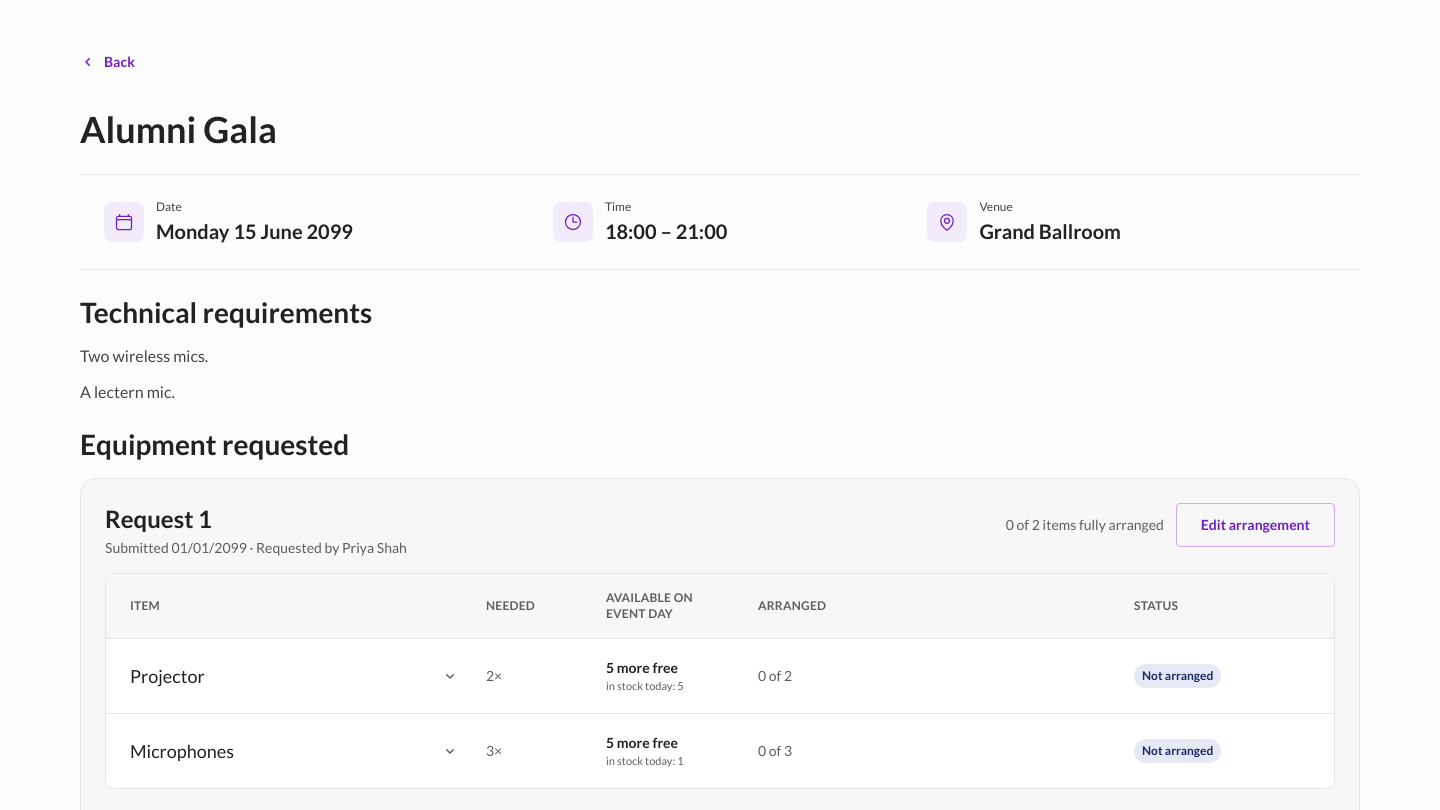
Test: EquipmentRequestDetailView › status is a read-out, not a choice: it follows the quantity picked, with no separate status control
Click the button with test id "edit-arrangement" at [1255, 525], box [1176,503,1335,547]
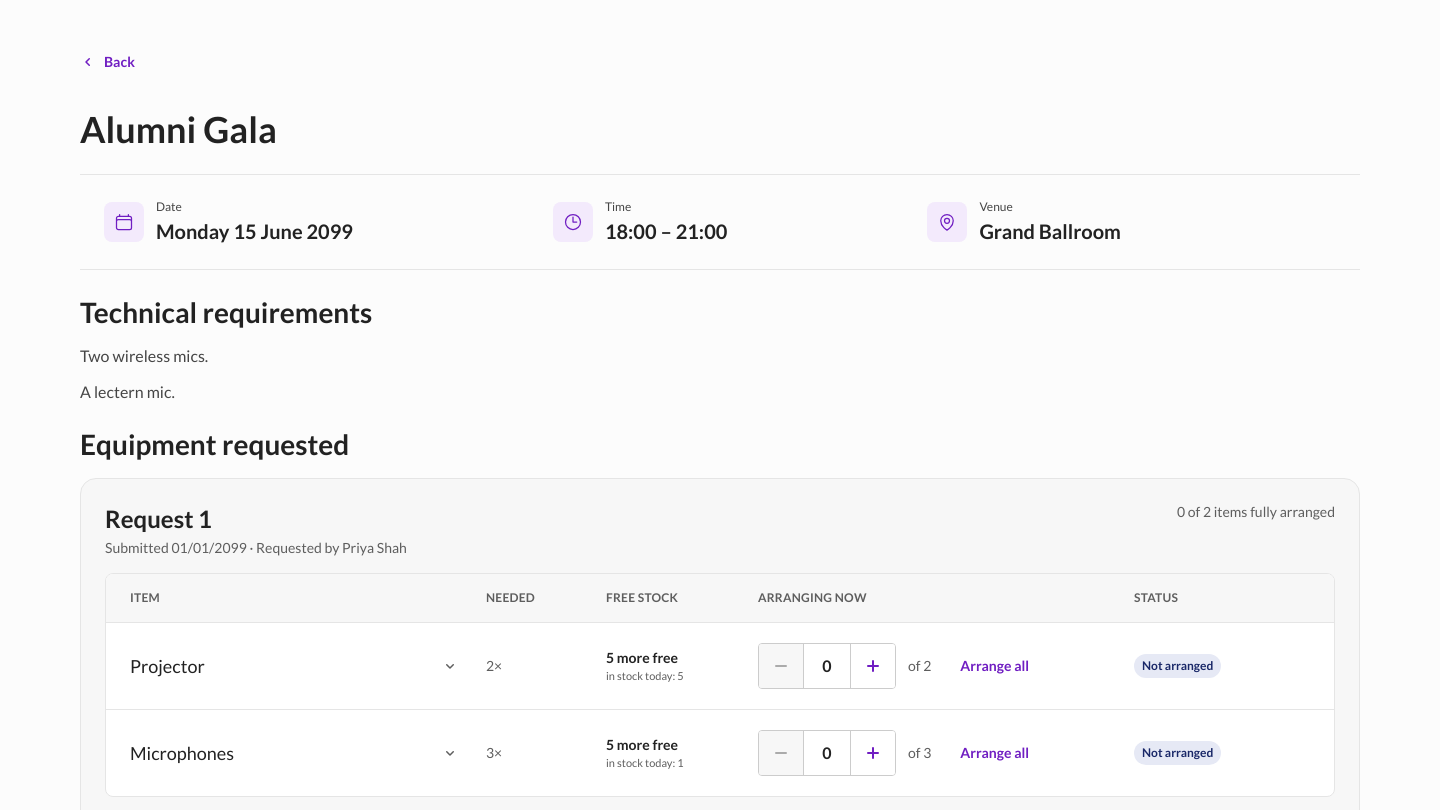
Expected: the elements with test id "item-status" read "Not arranged", "Not arranged", in this order, [1134,654,1221,678]; [1134,741,1221,765]
Click the button with test id "qty-all" in the row of "in stock today: 5" at [995, 666], box [943,648,1046,684]
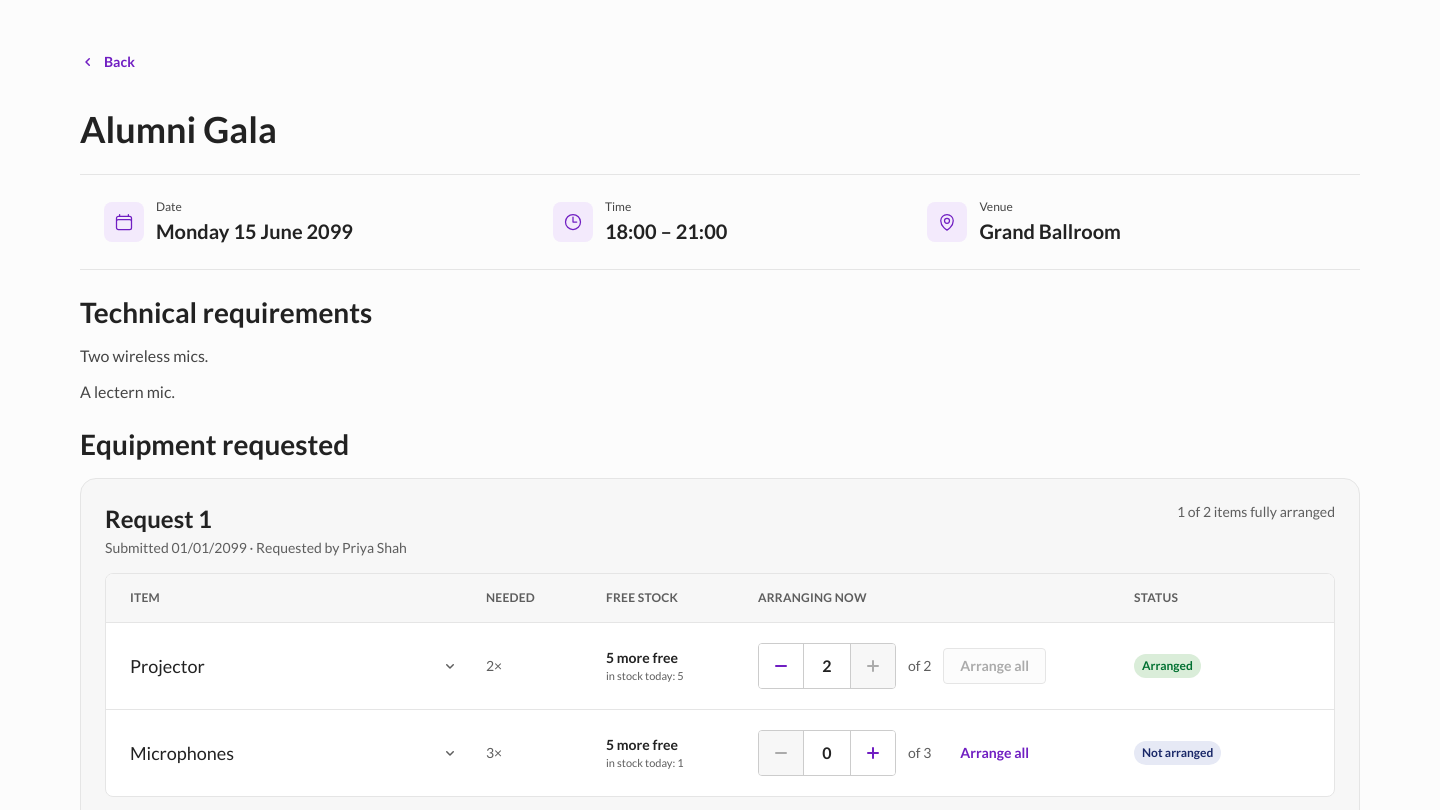
Click the 2nd button with test id "qty-inc" at [873, 753], box [851,731,895,775]
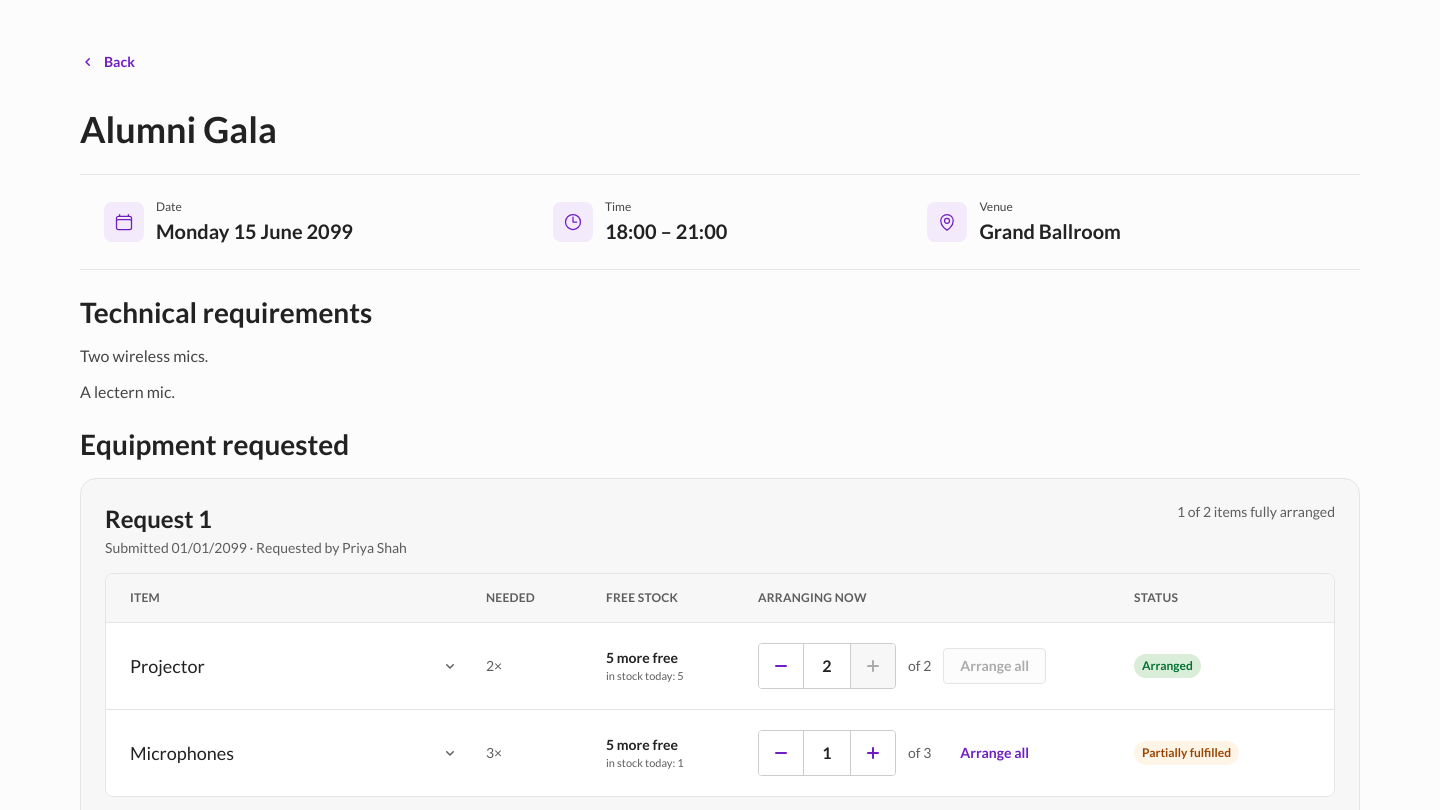
Now the elements with test id "item-status" read "Arranged", "Partially fulfilled", in this order, box [1134,654,1201,678]; [1134,741,1239,765]
